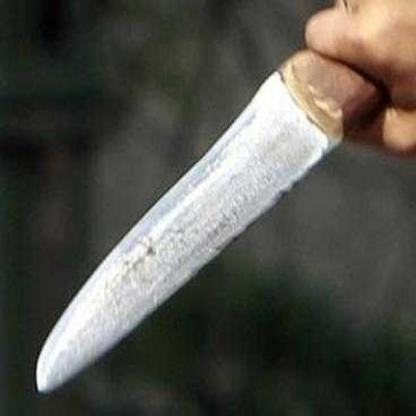Knife: (35, 0, 416, 396)
